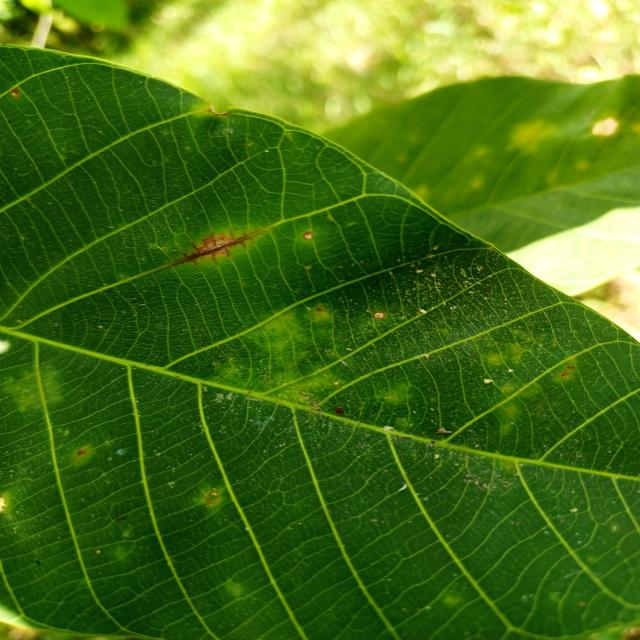Colletotrichum: (204, 492, 221, 504), (373, 312, 385, 319), (303, 232, 313, 240)
Corynespora: (174, 230, 263, 266)
